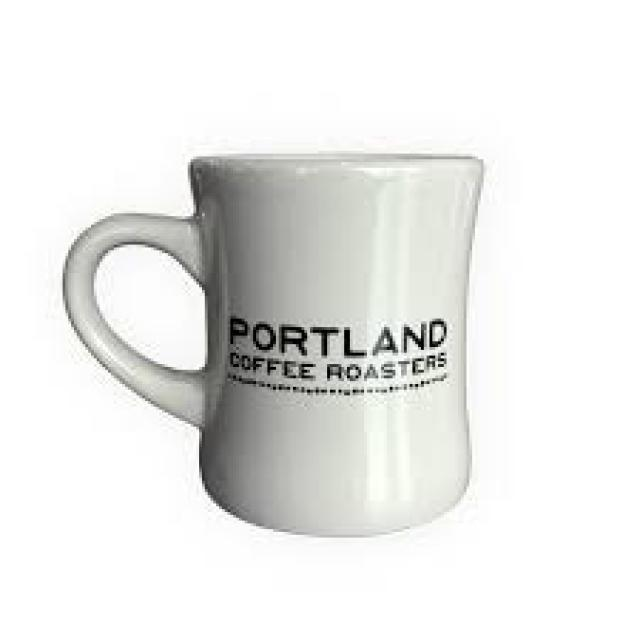taza: (63, 152, 485, 539)
